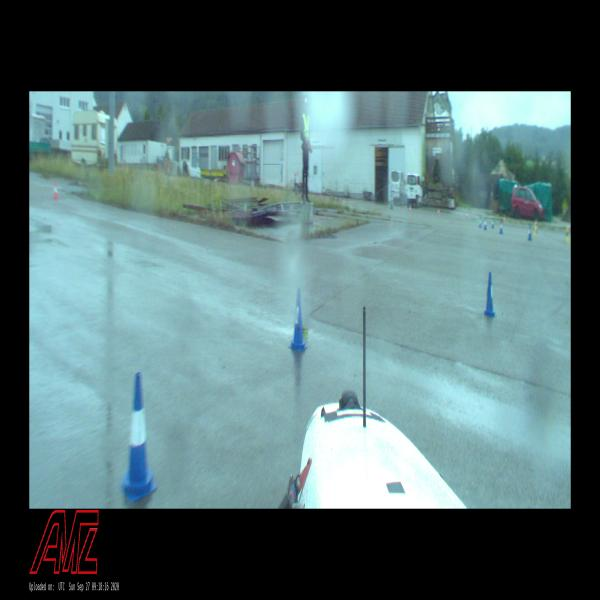blue_cone: (121, 372, 158, 504), (288, 288, 308, 352), (483, 272, 497, 318), (528, 225, 532, 240), (500, 221, 503, 234), (484, 218, 487, 230), (479, 217, 482, 228), (492, 218, 494, 228)
orange_cone: (53, 183, 58, 199)
yellow_cone: (565, 229, 569, 242)
